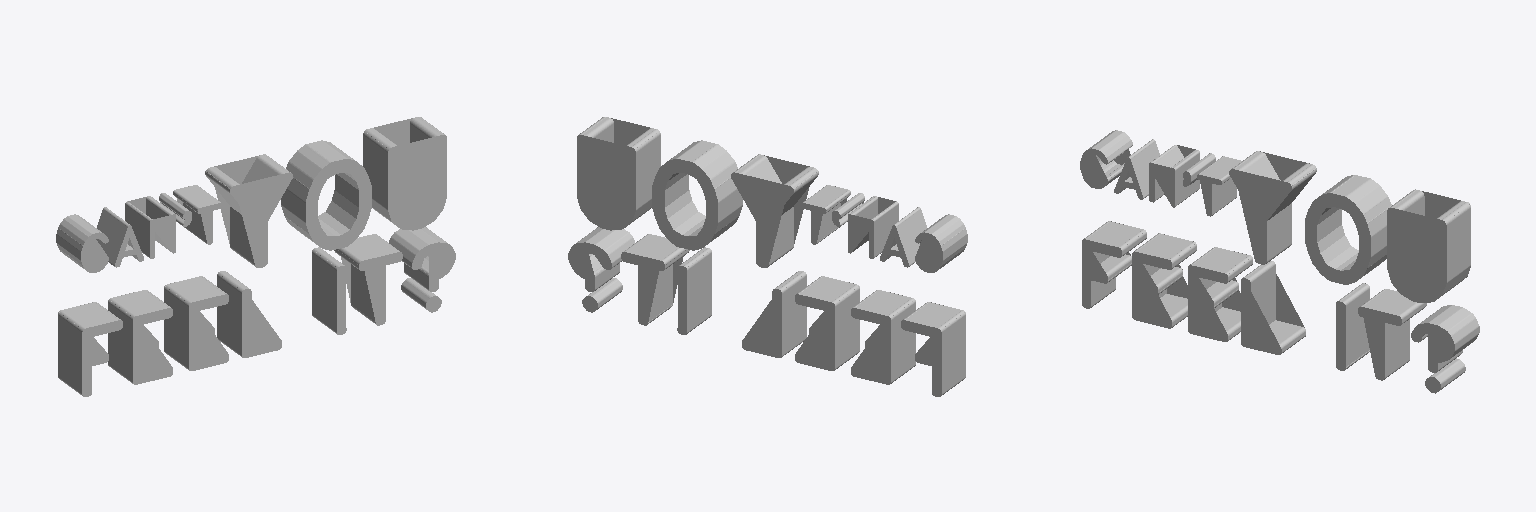
3 renders of one model, left to right at view 1: azimuth 30°, elevation 25°; view 2: azimuth 150°, elevation 25°; view 3: azimuth 330°, elevation 25°, orthographic.
Parts seen in each view (by area): view 1: Extrude.1; view 2: Extrude.1; view 3: Extrude.1.
Boxes of the visible parts, box(x1,y1,x2,y2) form: Extrude.1: box(56, 117, 455, 396); Extrude.1: box(568, 117, 967, 396); Extrude.1: box(1080, 130, 1479, 393).
Bounding box in the file's own units: 17.38 × 7.78 × 2.